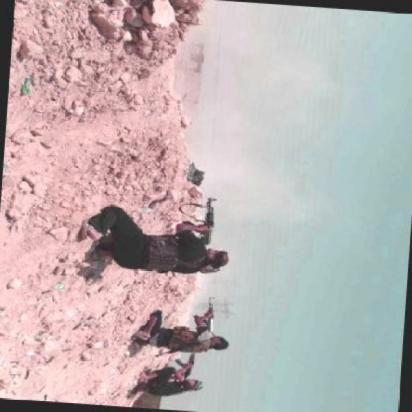Gun: (190, 195, 221, 248)
